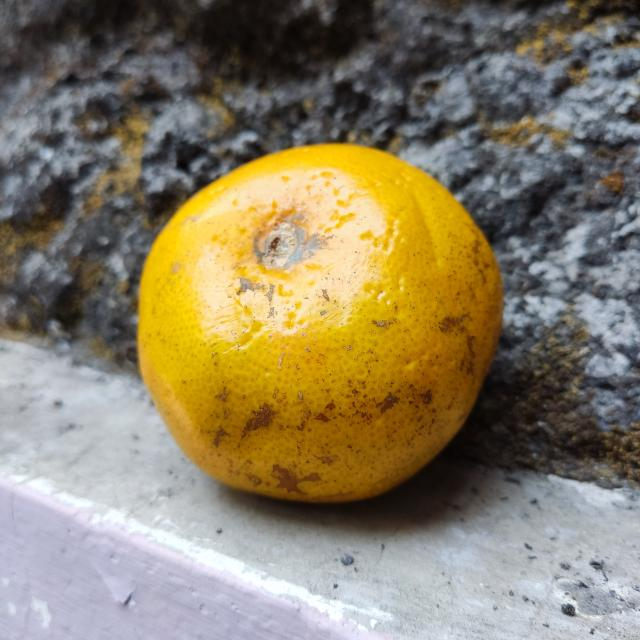orange: (136, 142, 502, 503)
